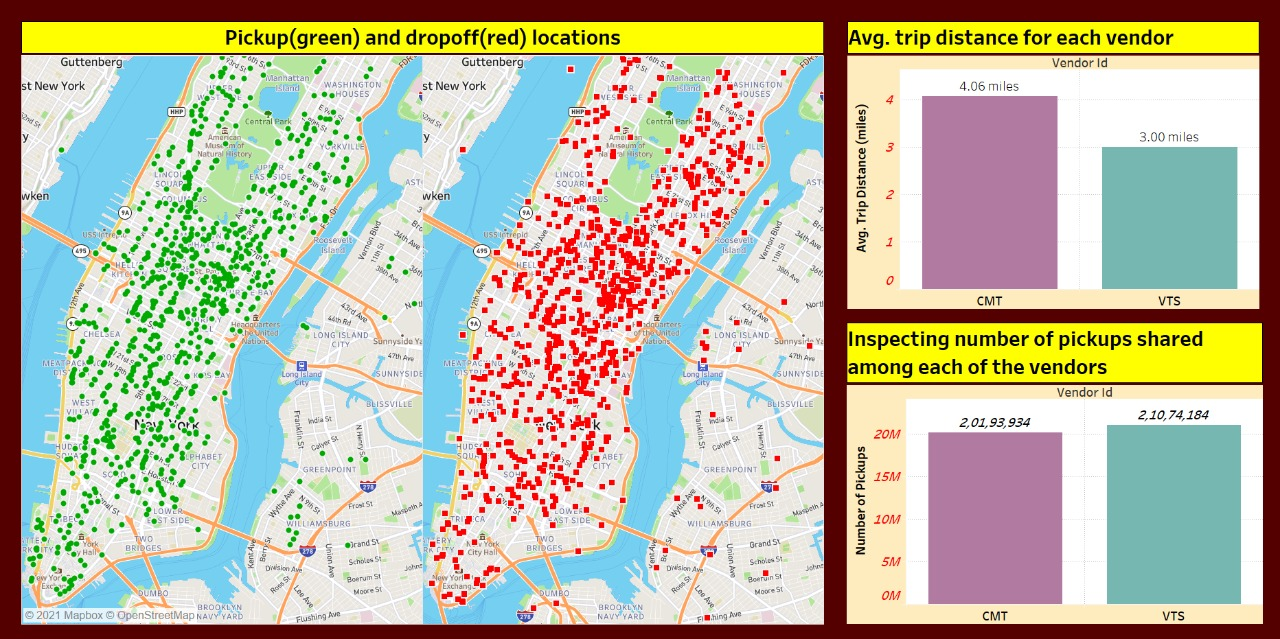

Layout of this report page (visuals, bound fields, positions):
{"tool":"tableau","page":{"name":"Dashboard 2","canvas":[1500,1400],"ordinal":1},"visuals":[{"type":"worksheet","box":[0,0,1500,1400]},{"type":"worksheet","param":"vert","box":[8,8,1484,1384]},{"type":"worksheet","box":[8,8,1484,1384]},{"type":"worksheet","title":"Sheet 11","mark":"Automatic","rows":["pickup_hour"],"cols":["pickup_day"],"param":"[federated.1llqlo6177bov81co22c71rz0lft].[cnt:fare_amount:qk]","box":[638,46,333,65]}]}

Visuals, with their boxes on the page's 1500x1400 design canvas (x1, y1, x2, y2). These are canvas units, not pixel positions in the 1280x639 screenshot, which may show the page scaled, cropped or inside an application window:
worksheet: <bbox>0, 0, 1500, 1400</bbox>
worksheet: <bbox>8, 8, 1492, 1392</bbox>
worksheet: <bbox>8, 8, 1492, 1392</bbox>
"Sheet 11" worksheet: <bbox>638, 46, 971, 111</bbox>
